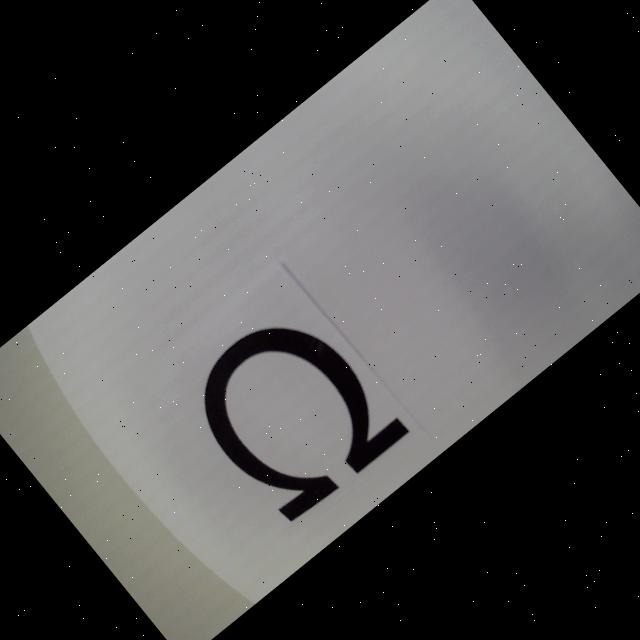OMEGA: (174, 292, 411, 532)
